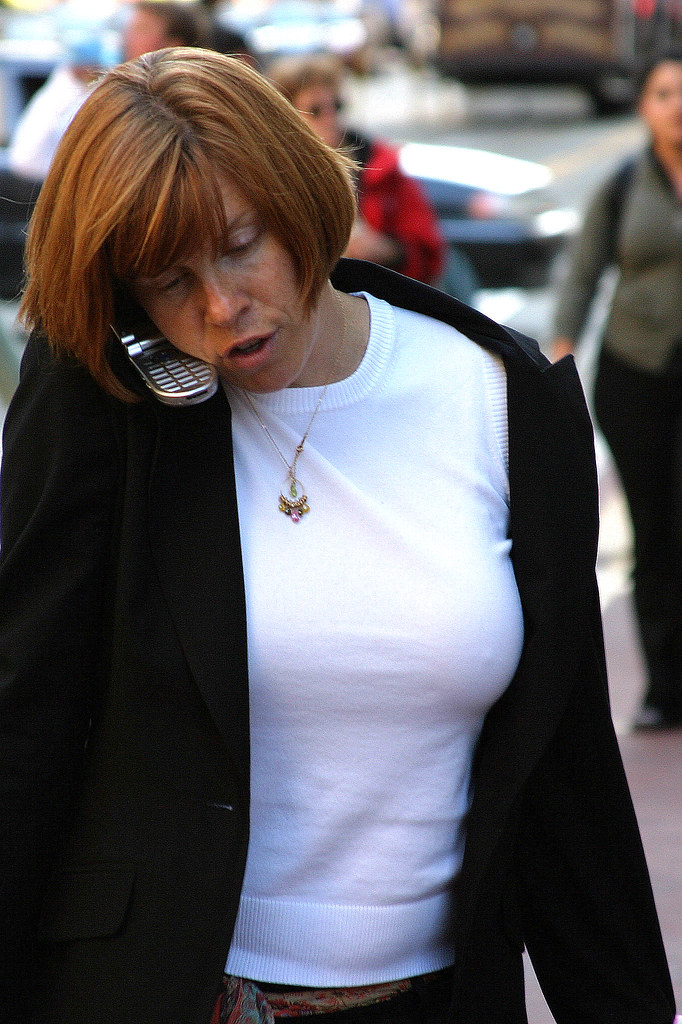phone: (89, 240, 217, 431)
